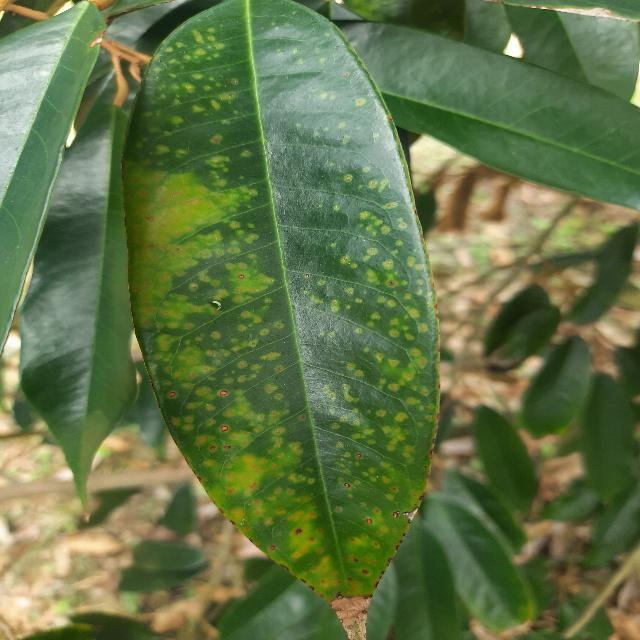Leaf Spot: (109, 0, 463, 639)
